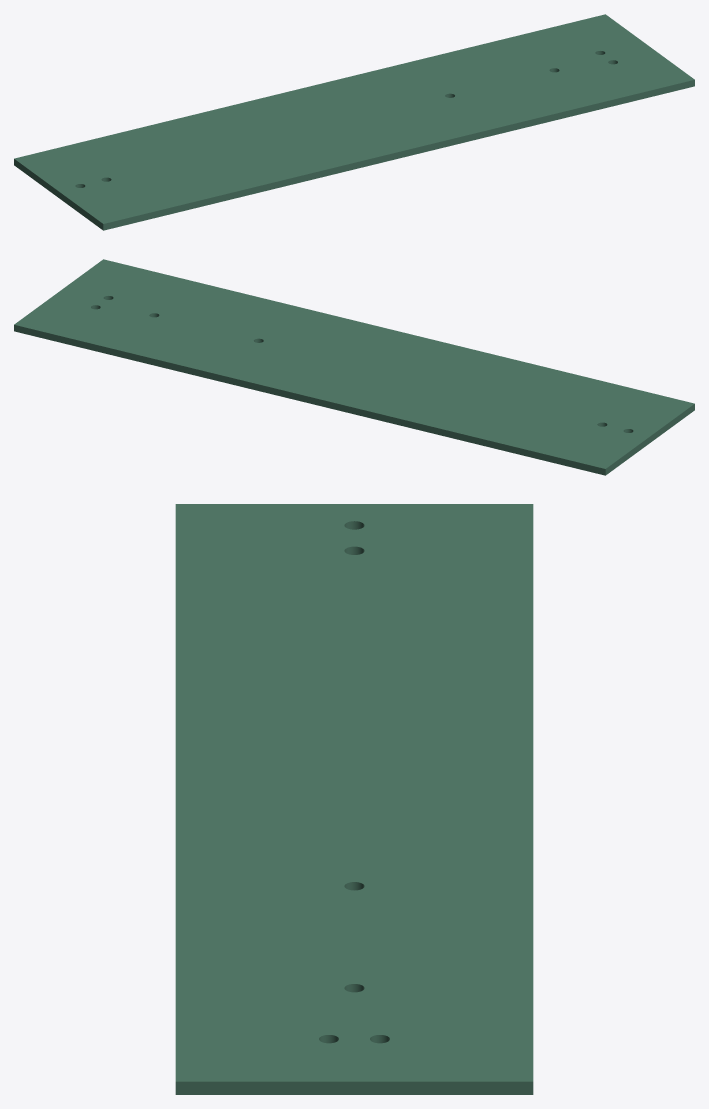
The model's file is pb3-replacement.glb.
3 views of the same model, one above another, from view 1: azimuth 30°, elevation 25°; view 2: azimuth 150°, elevation 25°; view 3: azimuth 270°, elevation 25° (orthographic). The views are drawn at different scales.
Parts seen in each view (by area): view 1: =>[0:1:1:2]; view 2: =>[0:1:1:2]; view 3: =>[0:1:1:2].
Part boxes in pixels (x1,y1,x2,y2): =>[0:1:1:2]: (14, 14, 694, 230); =>[0:1:1:2]: (14, 259, 694, 475); =>[0:1:1:2]: (175, 504, 533, 1094).
Bounding box in the file's own units: 0.068 × 0.00073 × 0.0178.
